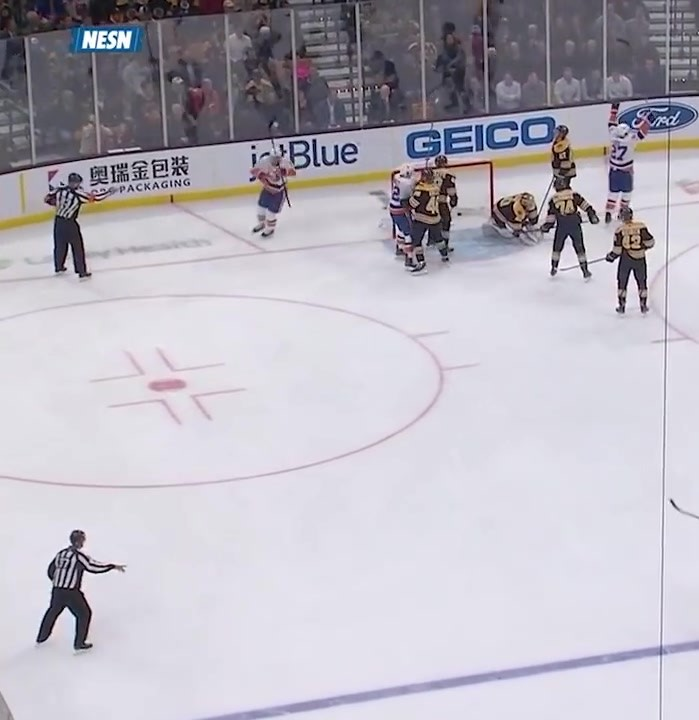Geico: (402, 114, 562, 159)
